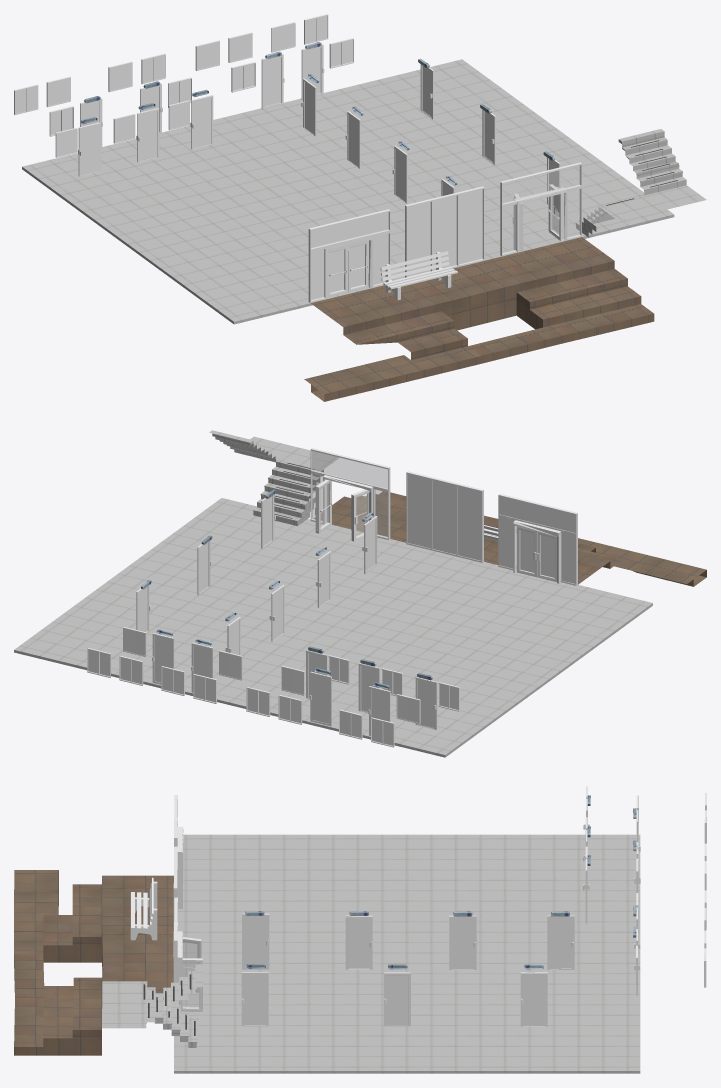
Rendered from 300-PBOPT.glb.
3 views of the same model, one above another, from view 1: azimuth 30°, elevation 25°; view 2: azimuth 150°, elevation 25°; view 3: azimuth 270°, elevation 25° (orthographic). The views are drawn at different scales.
Parts seen in each view (by area): view 1: Escaleras_300s, PB_PuertasP, EscEntrada, PB_Puertas, Placas_PB; view 2: Escaleras_300s, PB_PuertasP, PB_Puertas, EscEntrada, Placas_PB; view 3: Escaleras_300s, EscEntrada, PB_PuertasP, PB_Puertas, Placas_PB.
Part boxes in pixels (box(x1,y1,x2,y2)): Escaleras_300s: box(22, 59, 706, 324); PB_PuertasP: box(14, 14, 581, 302); EscEntrada: box(304, 237, 654, 401); PB_Puertas: box(51, 40, 580, 300); Placas_PB: box(81, 42, 554, 185); Escaleras_300s: box(14, 430, 652, 757); PB_PuertasP: box(87, 448, 577, 747); PB_Puertas: box(88, 451, 458, 745); EscEntrada: box(314, 491, 706, 586); Placas_PB: box(141, 489, 432, 689); Escaleras_300s: box(102, 834, 640, 1073); EscEntrada: box(14, 870, 173, 1055); PB_PuertasP: box(130, 786, 706, 1026); PB_Puertas: box(182, 917, 571, 1007); Placas_PB: box(245, 795, 636, 969).
Bounding box in the file's own units: 0.1852 × 0.0431 × 0.2297.
Materials: 6 (3 with a texture image).
